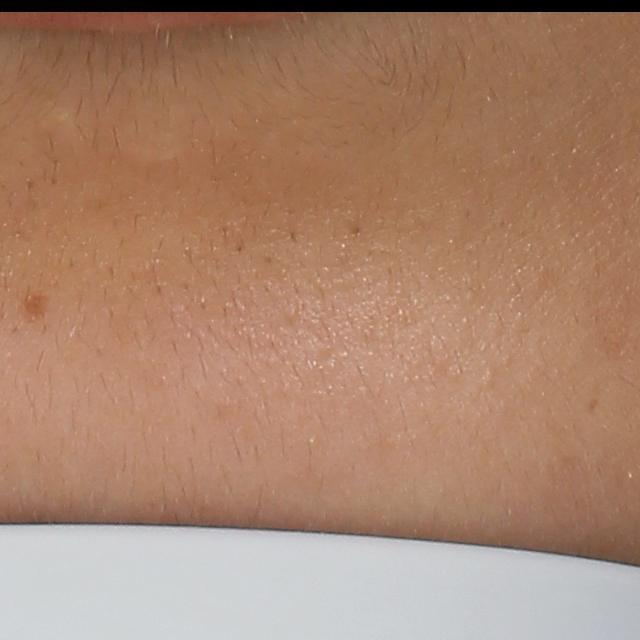nevus: (23, 297, 47, 328)
